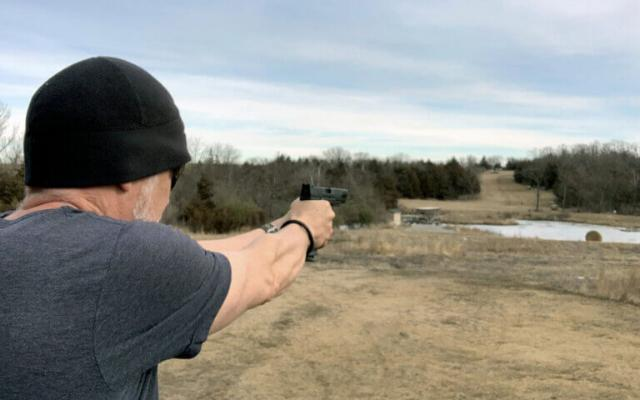handgun: (298, 180, 350, 266)
